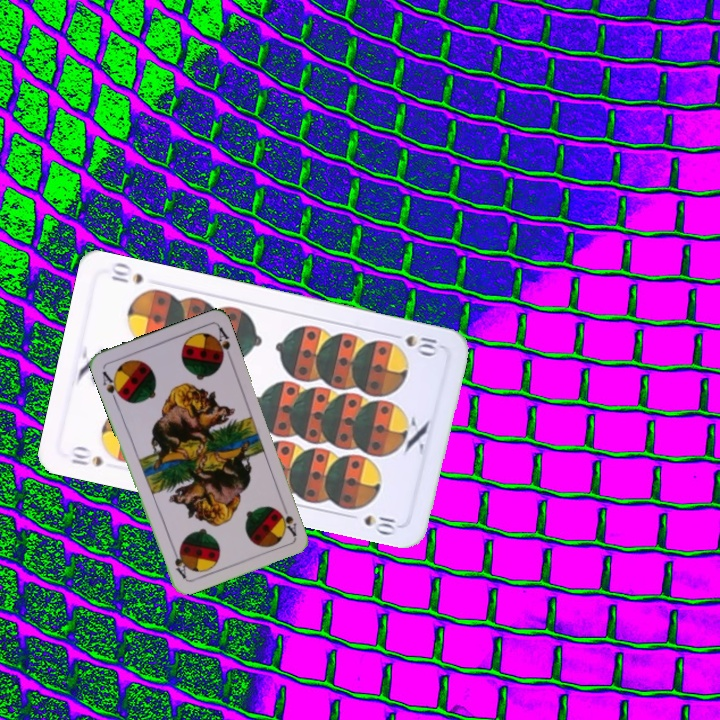S10: (385, 329, 442, 358), (67, 442, 106, 469)
SA: (98, 367, 125, 404), (274, 500, 299, 539)
